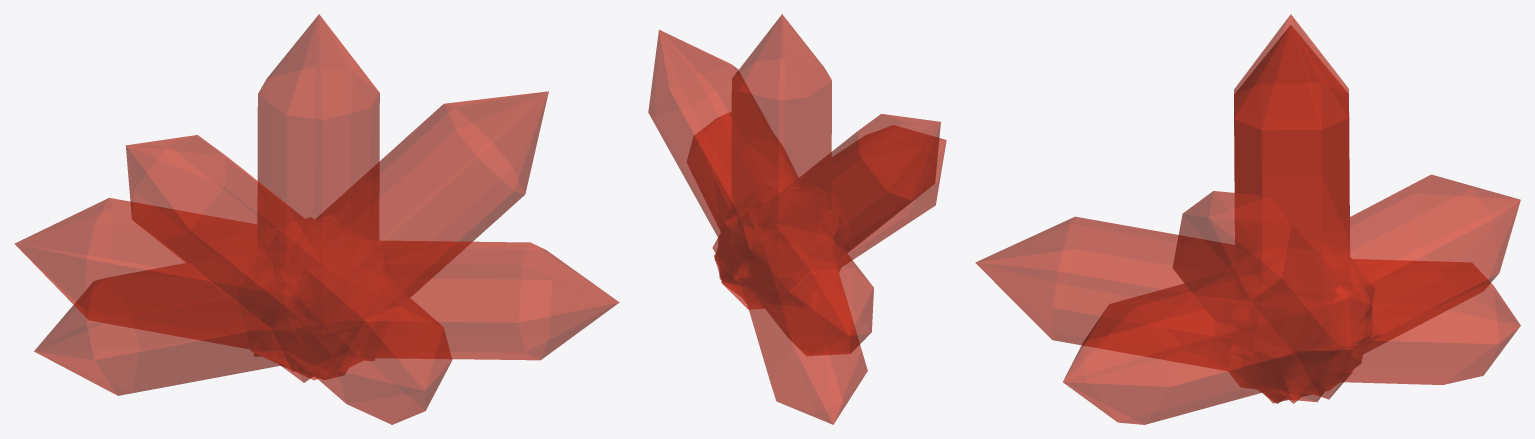
File: Crystals.FBX
3 renders of one model, left to right at view 1: azimuth 30°, elevation 25°; view 2: azimuth 150°, elevation 25°; view 3: azimuth 270°, elevation 25°, orthographic. The views are drawn at different scales.
Visible parts, largest first — view 1: Box019, Box017, Box015, Box018, Box013, Box016, Box014; view 2: Box017, Box019, Box016, Box013, Box018, Box014, Box015; view 3: Box015, Box017, Box014, Box019, Box013, Box018, Box016.
Boxes of the visible parts, box(x1,y1,x2,y2) form: Box019: box(254, 91, 548, 360); Box017: box(253, 14, 391, 339); Box015: box(292, 218, 619, 372); Box018: box(15, 198, 338, 382); Box013: box(126, 135, 382, 371); Box016: box(34, 217, 396, 395); Box014: box(239, 217, 452, 424); Box017: box(712, 14, 849, 303); Box019: box(648, 30, 834, 303); Box016: box(714, 198, 867, 424); Box013: box(728, 114, 940, 306); Box018: box(721, 188, 873, 355); Box014: box(734, 125, 946, 287); Box015: box(687, 112, 821, 303); Box015: box(1063, 270, 1353, 424); Box017: box(1214, 25, 1372, 400); Box014: box(975, 216, 1381, 403); Box019: box(1172, 191, 1374, 394); Box013: box(1233, 14, 1372, 403); Box018: box(1230, 174, 1520, 399); Box016: box(1230, 235, 1520, 403).
Bounding box in the file's own units: 23245 × 23447 × 27776.
